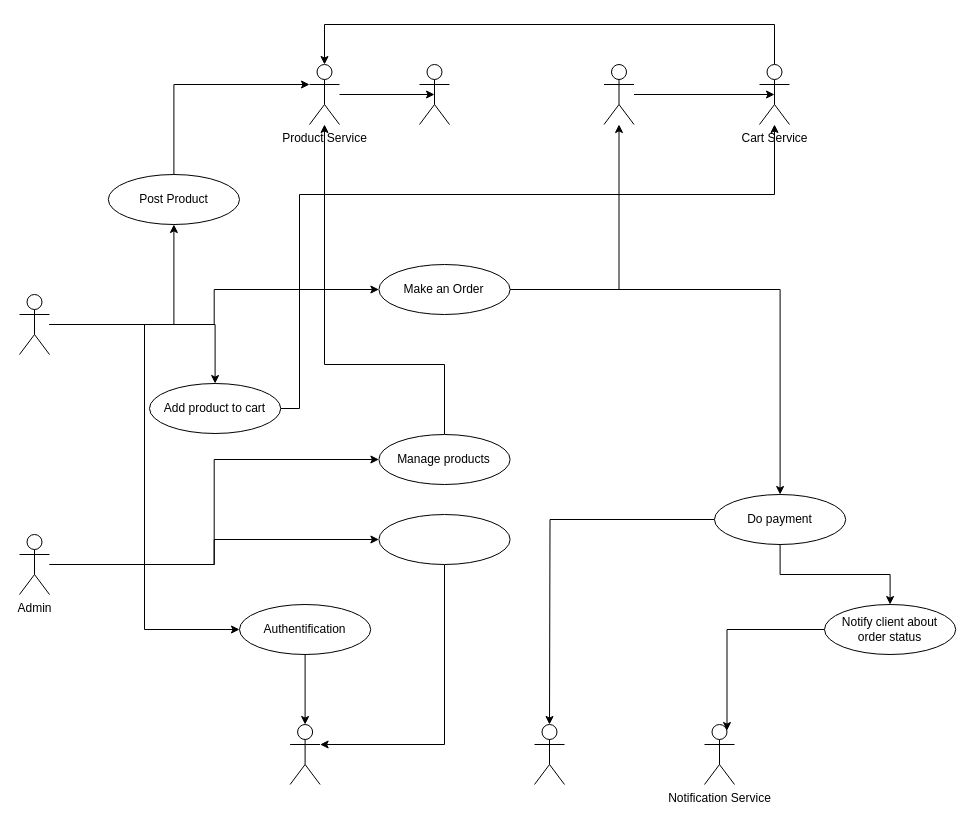
The diagram is 973 pixels wide and 823 high, and some of its shapes have lost their labels. Each missing label, with the box of its shape:
Auth service: (289, 724, 320, 784)
Client: (18, 294, 50, 354)
Inventory Service: (418, 64, 450, 124)
Manage users: (378, 514, 510, 564)
Order Service: (603, 64, 634, 124)
Payment Service: (534, 724, 564, 784)
